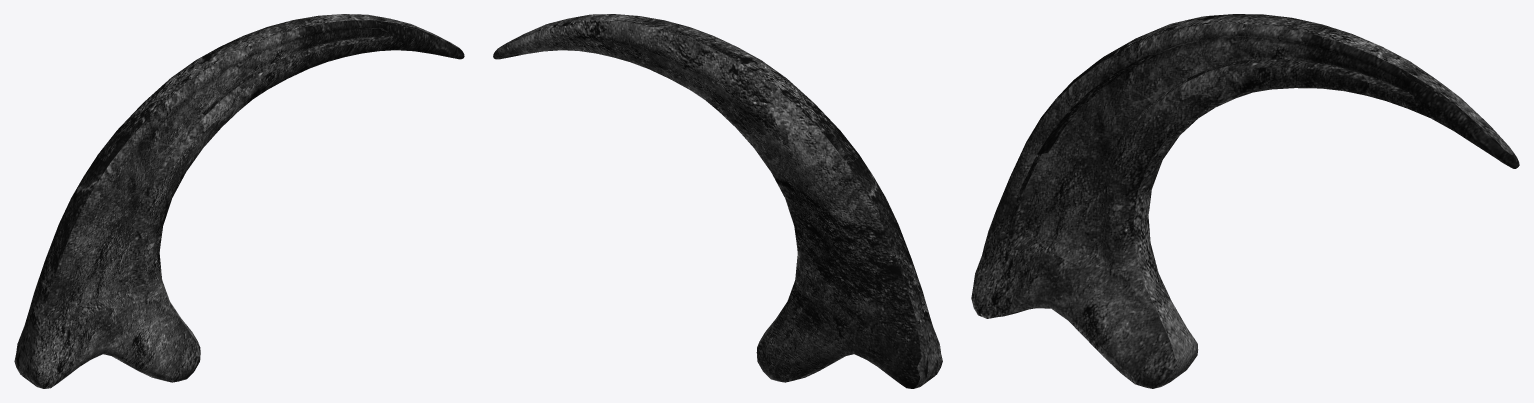
The model's file is raptor_claw.glb.
3 renders of one model, left to right at view 1: azimuth 30°, elevation 25°; view 2: azimuth 150°, elevation 25°; view 3: azimuth 330°, elevation 25°, orthographic. The views are drawn at different scales.
Parts seen in each view (by area): view 1: Raptor Claw; view 2: Raptor Claw; view 3: Raptor Claw.
Part boxes in pixels (<box>): Raptor Claw: <box>14,14,464,388</box>; Raptor Claw: <box>493,14,942,388</box>; Raptor Claw: <box>971,14,1519,388</box>.
Bounding box in the file's own units: 428 × 300 × 45.08.
Materials: 1 (1 with a texture image).
